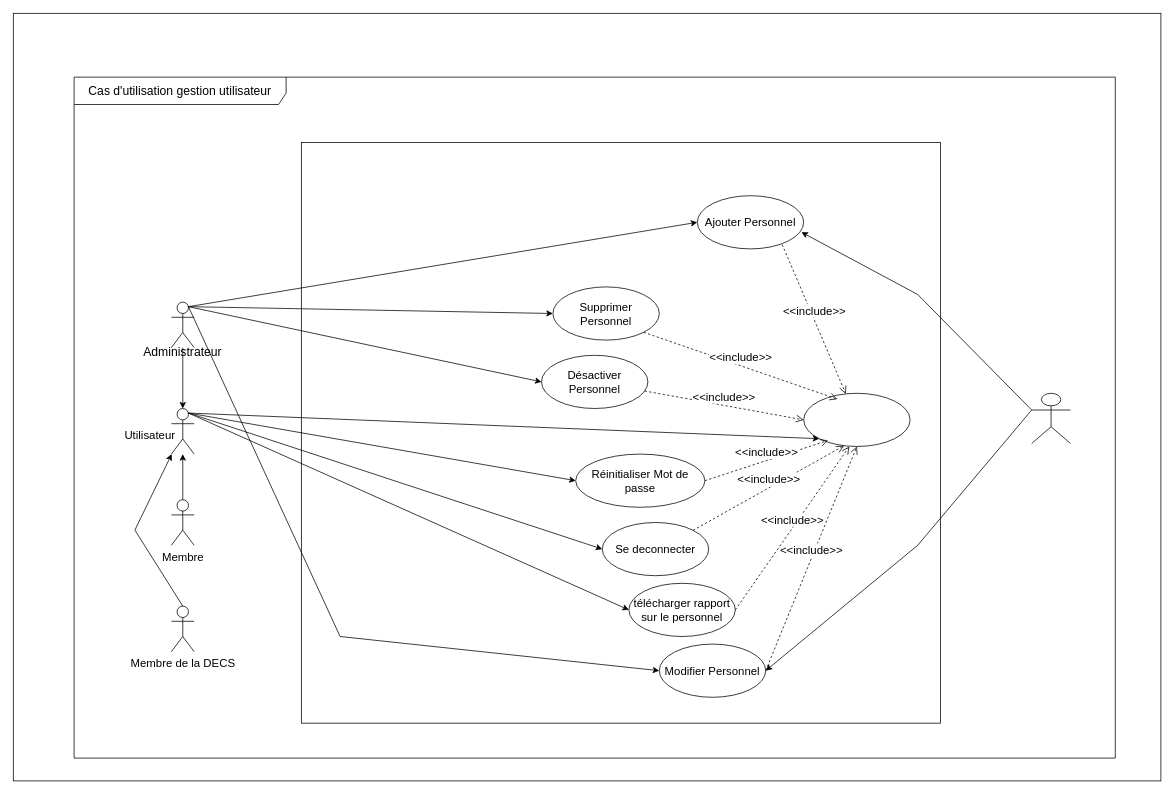
Image size: 1174x794. Some labels were removed from this diagram. The shapes that lost their labels are listed below. From the top down, each one's centre as x and y in pixels, then its label:
the point at 856,419: Se conecter
the point at 1050,418: Serveur de Messagerie
